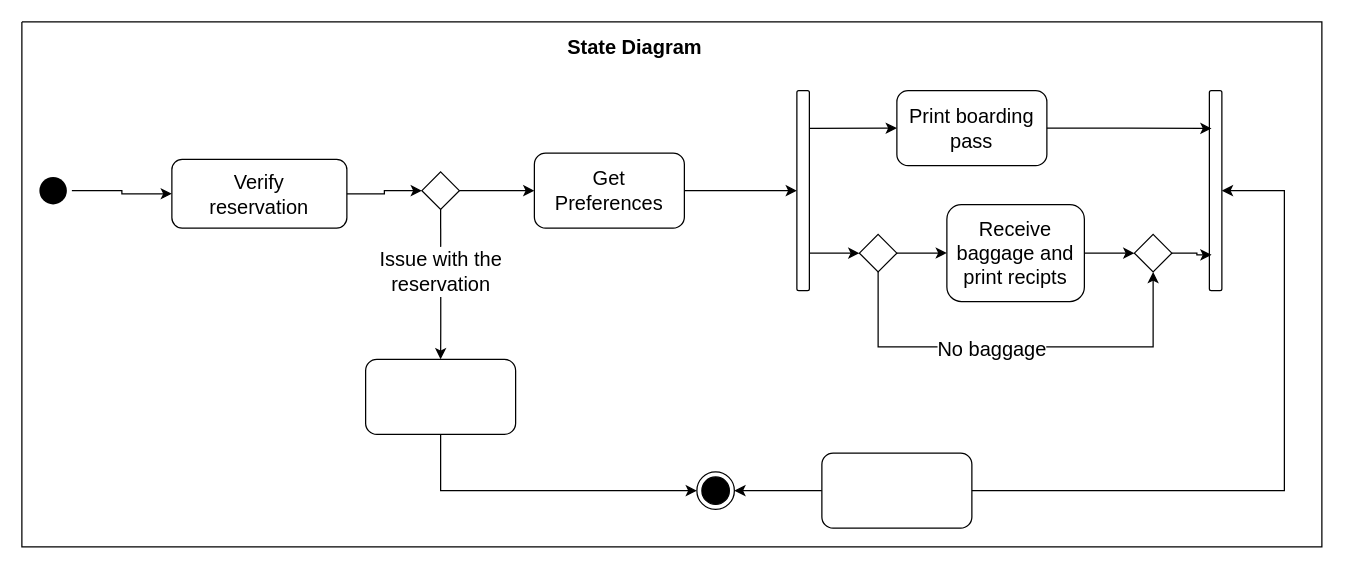
This 1345x570 diagram has some shape labels left out. The centre of each missing label's shape, as x and y in pixels:
"Give passenger travel documnets" goes at pixel 896 490.
"Send to airport travel agency" goes at pixel 440 396.
